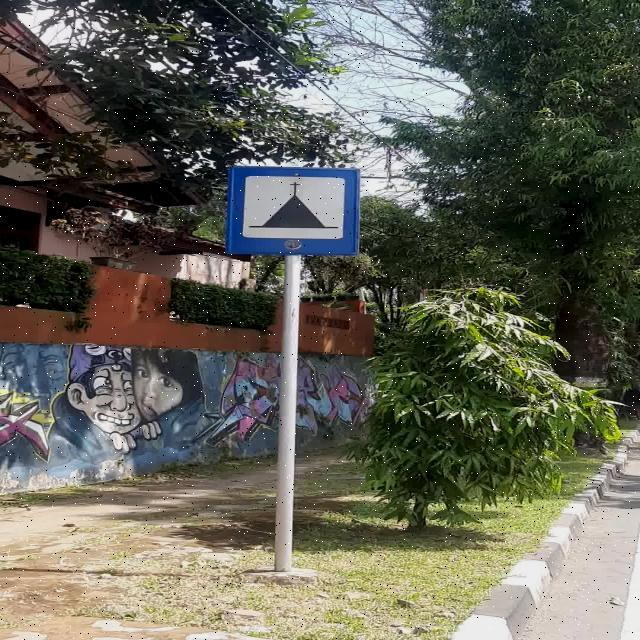Gereja: (226, 166, 361, 255)
